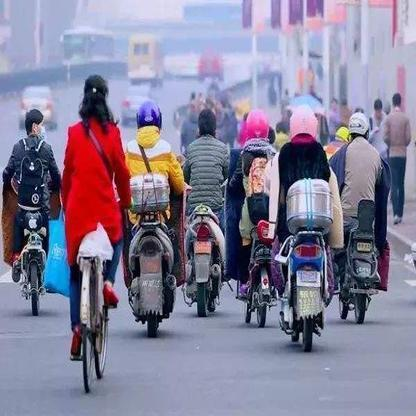target: (271, 103, 338, 353), (125, 99, 187, 339), (3, 72, 56, 332), (337, 112, 400, 326), (187, 106, 231, 314)
